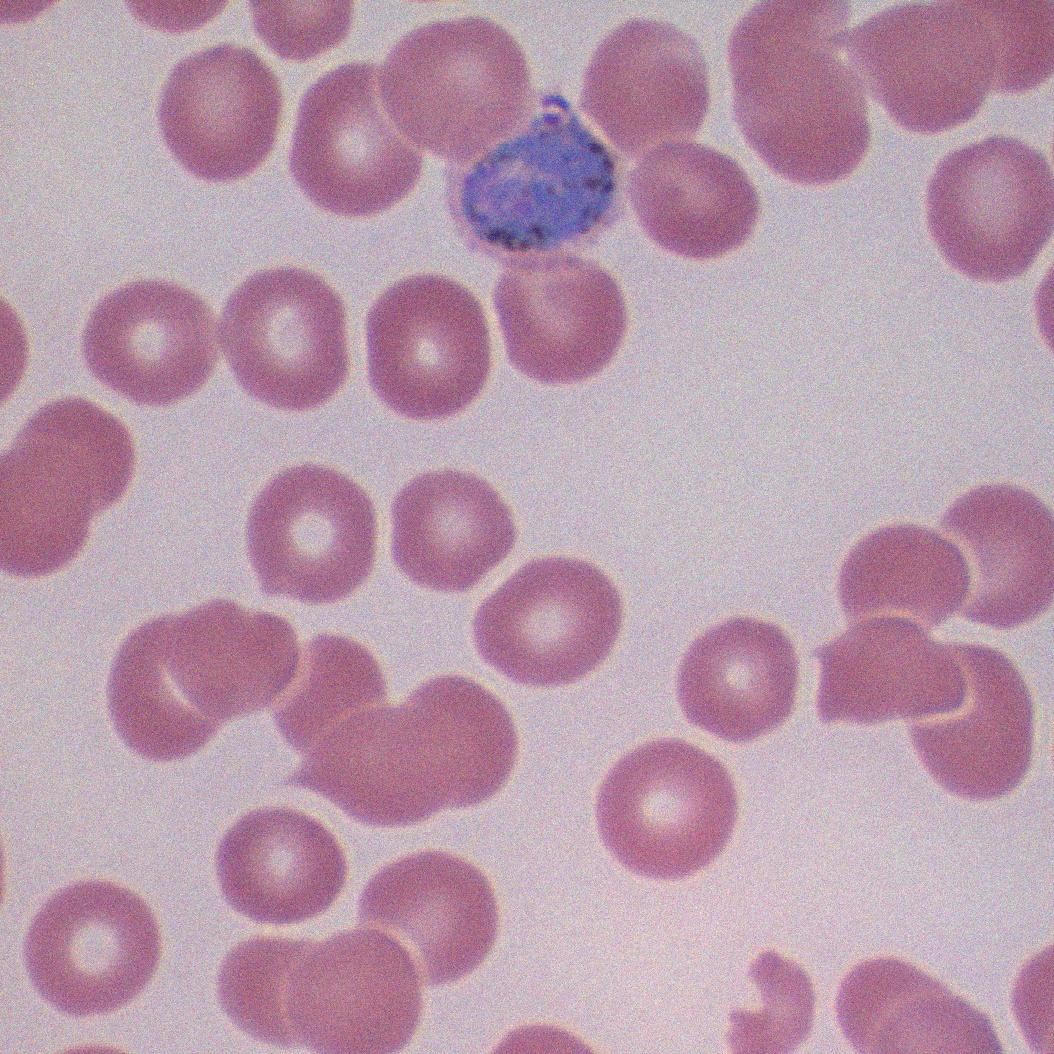Infected: (442, 93, 629, 270)
Uninfected: (283, 673, 515, 828), (728, 23, 876, 187), (370, 18, 537, 160), (900, 636, 1029, 801), (146, 600, 299, 736), (467, 551, 618, 687), (290, 64, 422, 215), (597, 736, 734, 879), (358, 850, 501, 986), (362, 271, 492, 420), (487, 246, 624, 387), (24, 879, 161, 1014), (245, 464, 379, 602), (218, 263, 346, 407), (927, 136, 1054, 279), (817, 613, 964, 734), (280, 930, 424, 1053), (583, 13, 712, 150), (854, 5, 997, 128), (22, 388, 139, 532), (157, 45, 281, 180), (673, 611, 801, 741), (940, 485, 1054, 630), (84, 279, 215, 405), (103, 621, 222, 756), (630, 138, 759, 257), (832, 524, 973, 632), (215, 806, 346, 922), (390, 468, 512, 592), (271, 635, 394, 754), (1, 442, 98, 580), (219, 937, 322, 1042), (725, 949, 815, 1049)
